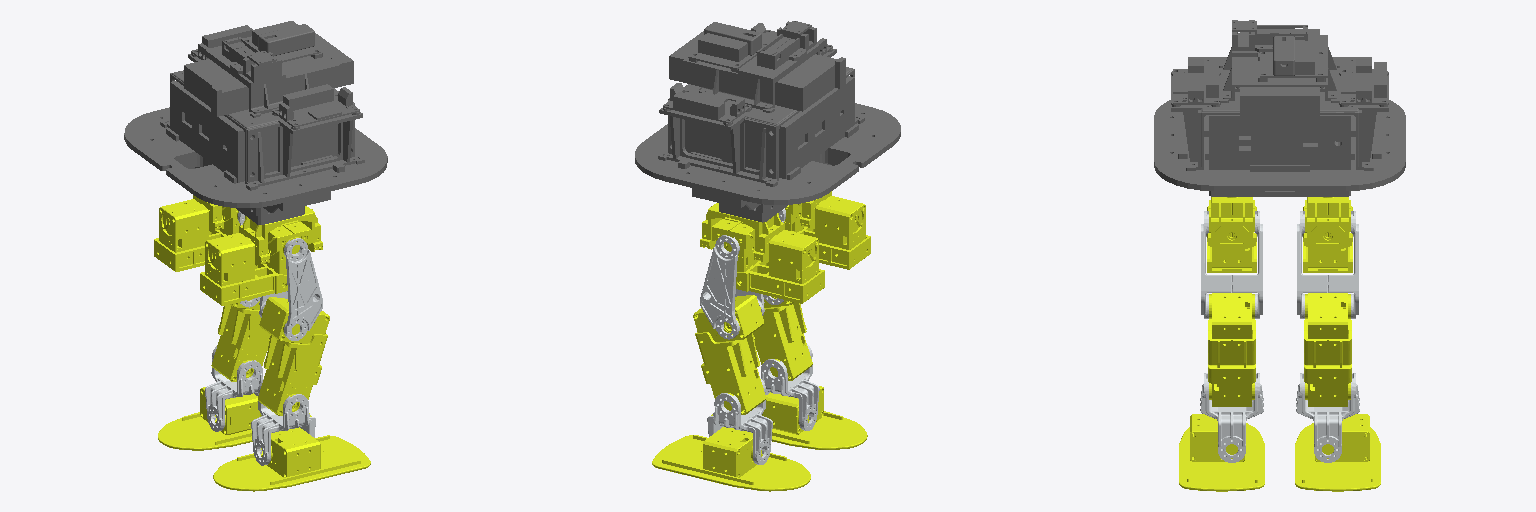
robot.urdf — exhx5_w_b_16:
<?xml version="1.0" encoding="utf-8"?>
<!-- This URDF was automatically created by SolidWorks to URDF Exporter! Originally created by [author] ([email redacted]) 
     Commit Version: 1.5.1-0-g916b5db  Build Version: 1.5.7152.31018
     For more information, please see http://wiki.ros.org/sw_urdf_exporter -->
<robot
  name="exhx5_w_b_16">
  <link
    name="body_link">
    <inertial>
      <origin
        xyz="0.00043545 0.00025536 0.10071"
        rpy="0 0 0" />
      <mass
        value="1.8238" />
      <inertia
        ixx="0.0025905"
        ixy="-5.6852E-06"
        ixz="-1.3106E-05"
        iyy="0.0024595"
        iyz="-1.261E-06"
        izz="0.0046407" />
    </inertial>
    <visual>
      <origin
        xyz="0 0 0"
        rpy="0 0 0" />
      <geometry>
        <mesh
          filename="../meshes/body_link.STL" />
      </geometry>
      <material
        name="">
        <color
          rgba="0.49804 0.49804 0.49804 1" />
      </material>
    </visual>
    <collision>
      <origin
        xyz="0 0 0"
        rpy="0 0 0" />
      <geometry>
        <mesh
          filename="../meshes/body_link.STL" />
      </geometry>
    </collision>
  </link>

  <link
    name="imu_link">
    <inertial>
      <origin
        xyz="-0.008387 1.336E-17 -0.0069463"
        rpy="0 0 0" />
      <mass
        value="0.0062931" />
      <inertia
        ixx="3.2242E-07"
        ixy="3.3527E-22"
        ixz="-6.9193E-08"
        iyy="9.2229E-07"
        iyz="-8.0392E-22"
        izz="1.1018E-06" />
    </inertial>
    <visual>
      <origin
        xyz="0 0 0"
        rpy="0 0 0" />
      <geometry>
        <mesh
          filename="../meshes/imu_link.STL" />
      </geometry>
      <material
        name="">
        <color
          rgba="0.79216 0.81961 0.93333 1" />
      </material>
    </visual>
    <collision>
      <origin
        xyz="0 0 0"
        rpy="0 0 0" />
      <geometry>
        <mesh
          filename="../meshes/imu_link.STL" />
      </geometry>
    </collision>
  </link>
  <joint
    name="imu"
    type="fixed">
    <origin
      xyz="0 0 0.0492"
      rpy="0 0 0" />
    <parent
      link="body_link" />
    <child
      link="imu_link" />
    <axis
      xyz="0 0 0" />
    <limit
      lower="-3.14"
      upper="3.14"
      effort="4"
      velocity="4" />
  </joint>
  <link
    name="l_hip_g_link">
    <inertial>
      <origin
        xyz="-0.0043797 -8.6604E-08 0.011813"
        rpy="0 0 0" />
      <mass
        value="0.061008" />
      <inertia
        ixx="1.167E-05"
        ixy="7.1767E-11"
        ixz="9.1442E-09"
        iyy="2.2342E-05"
        iyz="2.5177E-11"
        izz="2.4892E-05" />
    </inertial>
    <visual>
      <origin
        xyz="0 0 0"
        rpy="0 0 0" />
      <geometry>
        <mesh
          filename="../meshes/l_hip_g_link.STL" />
      </geometry>
      <material
        name="">
        <color
          rgba="0.9451 1 0.18431 1" />
      </material>
    </visual>
    <collision>
      <origin
        xyz="0 0 0"
        rpy="0 0 0" />
      <geometry>
        <mesh
          filename="../meshes/l_hip_g_link.STL" />
      </geometry>
    </collision>
  </link>
  <joint
    name="l_hip_g"
    type="fixed">
    <origin
      xyz="0 0.04 0"
      rpy="0 0 0" />
    <parent
      link="body_link" />
    <child
      link="l_hip_g_link" />
    <axis
      xyz="0 0 0" />
  </joint>
  <link
    name="l_hip_roll_link">
    <inertial>
      <origin
        xyz="0.013831 0.00033457 0.025453"
        rpy="0 0 0" />
      <mass
        value="0.2969" />
      <inertia
        ixx="7.8136E-05"
        ixy="7.265E-07"
        ixz="-6.9809E-08"
        iyy="9.2183E-05"
        iyz="-5.6881E-11"
        izz="7.1034E-05" />
    </inertial>
    <visual>
      <origin
        xyz="0 0 0"
        rpy="0 0 0" />
      <geometry>
        <mesh
          filename="../meshes/l_hip_roll_link.STL" />
      </geometry>
      <material
        name="">
        <color
          rgba="0.9451 1 0.18431 1" />
      </material>
    </visual>
    <collision>
      <origin
        xyz="0 0 0"
        rpy="0 0 0" />
      <geometry>
        <mesh
          filename="../meshes/l_hip_roll_link.STL" />
      </geometry>
    </collision>
  </link>
  <joint
    name="l_hip_roll"
    type="revolute">
    <origin
      xyz="0 0 0"
      rpy="3.1416 1.5708 0" />
    <parent
      link="l_hip_g_link" />
    <child
      link="l_hip_roll_link" />
    <axis
      xyz="0 0 1" />
    <limit
      lower="-3.14"
      upper="3.14"
      effort="4"
      velocity="4" />
  </joint>
  <link
    name="l_hip_pitch_link">
    <inertial>
      <origin
        xyz="0.041225 -0.007321 -5.0713E-08"
        rpy="0 0 0" />
      <mass
        value="0.051592" />
      <inertia
        ixx="2.7959E-05"
        ixy="2.0752E-06"
        ixz="-8.0934E-11"
        iyy="4.8156E-05"
        iyz="3.6317E-11"
        izz="2.9604E-05" />
    </inertial>
    <visual>
      <origin
        xyz="0 0 0"
        rpy="0 0 0" />
      <geometry>
        <mesh
          filename="../meshes/l_hip_pitch_link.STL" />
      </geometry>
      <material
        name="">
        <color
          rgba="0.89804 0.91765 0.92941 1" />
      </material>
    </visual>
    <collision>
      <origin
        xyz="0 0 0"
        rpy="0 0 0" />
      <geometry>
        <mesh
          filename="../meshes/l_hip_pitch_link.STL" />
      </geometry>
    </collision>
  </link>
  <joint
    name="l_hip_pitch"
    type="revolute">
    <origin
      xyz="0 0 0"
      rpy="1.5708 0 0" />
    <parent
      link="l_hip_roll_link" />
    <child
      link="l_hip_pitch_link" />
    <axis
      xyz="0 0 1" />
    <limit
      lower="-3.14"
      upper="3.14"
      effort="4"
      velocity="4" />
  </joint>
  <link
    name="l_knee_link">
    <inertial>
      <origin
        xyz="0.033756 -0.0084189 -6.6115E-09"
        rpy="0 0 0" />
      <mass
        value="0.28878" />
      <inertia
        ixx="6.6724E-05"
        ixy="7.5004E-07"
        ixz="-8.4578E-07"
        iyy="6.5699E-05"
        iyz="4.1085E-07"
        izz="7.0381E-05" />
    </inertial>
    <visual>
      <origin
        xyz="0 0 0"
        rpy="0 0 0" />
      <geometry>
        <mesh
          filename="../meshes/l_knee_link.STL" />
      </geometry>
      <material
        name="">
        <color
          rgba="0.9451 1 0.18431 1" />
      </material>
    </visual>
    <collision>
      <origin
        xyz="0 0 0"
        rpy="0 0 0" />
      <geometry>
        <mesh
          filename="../meshes/l_knee_link.STL" />
      </geometry>
    </collision>
  </link>
  <joint
    name="l_knee"
    type="revolute">
    <origin
      xyz="0.075954 0 0"
      rpy="0 0 0" />
    <parent
      link="l_hip_pitch_link" />
    <child
      link="l_knee_link" />
    <axis
      xyz="0 0 1" />
    <limit
      lower="-3.14"
      upper="3.14"
      effort="4"
      velocity="4" />
  </joint>
  <link
    name="l_ank_pitch_link">
    <inertial>
      <origin
        xyz="0.022786 -7.3909E-09 -7.1981E-06"
        rpy="0 0 0" />
      <mass
        value="0.044772" />
      <inertia
        ixx="1.777E-05"
        ixy="8.555E-14"
        ixz="-3.3713E-09"
        iyy="1.7119E-05"
        iyz="1.7593E-11"
        izz="1.8661E-05" />
    </inertial>
    <visual>
      <origin
        xyz="0 0 0"
        rpy="0 0 0" />
      <geometry>
        <mesh
          filename="../meshes/l_ank_pitch_link.STL" />
      </geometry>
      <material
        name="">
        <color
          rgba="0.89804 0.91765 0.92941 1" />
      </material>
    </visual>
    <collision>
      <origin
        xyz="0 0 0"
        rpy="0 0 0" />
      <geometry>
        <mesh
          filename="../meshes/l_ank_pitch_link.STL" />
      </geometry>
    </collision>
  </link>
  <joint
    name="l_ank_pitch"
    type="revolute">
    <origin
      xyz="0.074602 0 0"
      rpy="3.1416 0 0" />
    <parent
      link="l_knee_link" />
    <child
      link="l_ank_pitch_link" />
    <axis
      xyz="0 0 1" />
    <limit
      lower="-3.14"
      upper="3.14"
      effort="4"
      velocity="4" />
  </joint>
  <link
    name="l_ank_roll_link">
    <inertial>
      <origin
        xyz="0.0047069 0.010728 0.0015299"
        rpy="0 0 0" />
      <mass
        value="0.16774" />
      <inertia
        ixx="0.00012039"
        ixy="-3.7428E-09"
        ixz="4.4069E-08"
        iyy="8.7735E-05"
        iyz="7.0469E-07"
        izz="4.7866E-05" />
    </inertial>
    <visual>
      <origin
        xyz="0 0 0"
        rpy="0 0 0" />
      <geometry>
        <mesh
          filename="../meshes/l_ank_roll_link.STL" />
      </geometry>
      <material
        name="">
        <color
          rgba="0.9451 1 0.18431 1" />
      </material>
    </visual>
    <collision>
      <origin
        xyz="0 0 0"
        rpy="0 0 0" />
      <geometry>
        <mesh
          filename="../meshes/l_ank_roll_link.STL" />
      </geometry>
    </collision>
  </link>
  <joint
    name="l_ank_roll"
    type="revolute">
    <origin
      xyz="0.0465 0 0"
      rpy="-1.5708 0 0" />
    <parent
      link="l_ank_pitch_link" />
    <child
      link="l_ank_roll_link" />
    <axis
      xyz="0 0 1" />
    <limit
      lower="-3.14"
      upper="3.14"
      effort="4"
      velocity="4" />
  </joint>
  <link
    name="r_hip_g_link">
    <inertial>
      <origin
        xyz="-0.0043797 -8.6604E-08 0.011813"
        rpy="0 0 0" />
      <mass
        value="0.061008" />
      <inertia
        ixx="1.167E-05"
        ixy="7.1767E-11"
        ixz="9.1442E-09"
        iyy="2.2342E-05"
        iyz="2.5177E-11"
        izz="2.4892E-05" />
    </inertial>
    <visual>
      <origin
        xyz="0 0 0"
        rpy="0 0 0" />
      <geometry>
        <mesh
          filename="../meshes/r_hip_g_link.STL" />
      </geometry>
      <material
        name="">
        <color
          rgba="0.9451 1 0.18431 1" />
      </material>
    </visual>
    <collision>
      <origin
        xyz="0 0 0"
        rpy="0 0 0" />
      <geometry>
        <mesh
          filename="../meshes/r_hip_g_link.STL" />
      </geometry>
    </collision>
  </link>
  <joint
    name="r_hip_g"
    type="fixed">
    <origin
      xyz="0 -.04 0"
      rpy="0 0 0" />
    <parent
      link="body_link" />
    <child
      link="r_hip_g_link" />
    <axis
      xyz="0 0 0" />
  </joint>
  <link
    name="r_hip_roll_link">
    <inertial>
      <origin
        xyz="0.013831 0.00033457 0.025453"
        rpy="0 0 0" />
      <mass
        value="0.2969" />
      <inertia
        ixx="7.8136E-05"
        ixy="7.265E-07"
        ixz="-6.9809E-08"
        iyy="9.2183E-05"
        iyz="-5.6881E-11"
        izz="7.1034E-05" />
    </inertial>
    <visual>
      <origin
        xyz="0 0 0"
        rpy="0 0 0" />
      <geometry>
        <mesh
          filename="../meshes/r_hip_roll_link.STL" />
      </geometry>
      <material
        name="">
        <color
          rgba="0.9451 1 0.18431 1" />
      </material>
    </visual>
    <collision>
      <origin
        xyz="0 0 0"
        rpy="0 0 0" />
      <geometry>
        <mesh
          filename="../meshes/r_hip_roll_link.STL" />
      </geometry>
    </collision>
  </link>
  <joint
    name="r_hip_roll"
    type="revolute">
    <origin
      xyz="0 0 0"
      rpy="3.1416 1.5708 0" />
    <parent
      link="r_hip_g_link" />
    <child
      link="r_hip_roll_link" />
    <axis
      xyz="0 0 1" />
    <limit
      lower="-3.14"
      upper="3.14"
      effort="4"
      velocity="4" />
  </joint>
  <link
    name="r_hip_pitch_link">
    <inertial>
      <origin
        xyz="0.041225 0.007321 5.0713E-08"
        rpy="0 0 0" />
      <mass
        value="0.051592" />
      <inertia
        ixx="2.7959E-05"
        ixy="-2.0752E-06"
        ixz="8.0934E-11"
        iyy="4.8156E-05"
        iyz="3.6317E-11"
        izz="2.9604E-05" />
    </inertial>
    <visual>
      <origin
        xyz="0 0 0"
        rpy="0 0 0" />
      <geometry>
        <mesh
          filename="../meshes/r_hip_pitch_link.STL" />
      </geometry>
      <material
        name="">
        <color
          rgba="0.89804 0.91765 0.92941 1" />
      </material>
    </visual>
    <collision>
      <origin
        xyz="0 0 0"
        rpy="0 0 0" />
      <geometry>
        <mesh
          filename="../meshes/r_hip_pitch_link.STL" />
      </geometry>
    </collision>
  </link>
  <joint
    name="r_hip_pitch"
    type="revolute">
    <origin
      xyz="0 0 0"
      rpy="-1.5708 0 0" />
    <parent
      link="r_hip_roll_link" />
    <child
      link="r_hip_pitch_link" />
    <axis
      xyz="0 0 1" />
    <limit
      lower="-3.14"
      upper="3.14"
      effort="4"
      velocity="4" />
  </joint>
  <link
    name="r_knee_link">
    <inertial>
      <origin
        xyz="0.033757 0.0084176 6.6115E-09"
        rpy="0 0 0" />
      <mass
        value="0.28878" />
      <inertia
        ixx="6.6724E-05"
        ixy="-7.5008E-07"
        ixz="8.458E-07"
        iyy="6.5699E-05"
        iyz="4.1081E-07"
        izz="7.0381E-05" />
    </inertial>
    <visual>
      <origin
        xyz="0 0 0"
        rpy="0 0 0" />
      <geometry>
        <mesh
          filename="../meshes/r_knee_link.STL" />
      </geometry>
      <material
        name="">
        <color
          rgba="0.9451 1 0.18431 1" />
      </material>
    </visual>
    <collision>
      <origin
        xyz="0 0 0"
        rpy="0 0 0" />
      <geometry>
        <mesh
          filename="../meshes/r_knee_link.STL" />
      </geometry>
    </collision>
  </link>
  <joint
    name="r_knee"
    type="revolute">
    <origin
      xyz="0.075954 0 0"
      rpy="0 0 0" />
    <parent
      link="r_hip_pitch_link" />
    <child
      link="r_knee_link" />
    <axis
      xyz="0 0 1" />
    <limit
      lower="-3.14"
      upper="3.14"
      effort="4"
      velocity="4" />
  </joint>
  <link
    name="r_ank_pitch_link">
    <inertial>
      <origin
        xyz="0.025786 -7.3887E-09 -7.1981E-06"
        rpy="0 0 0" />
      <mass
        value="0.044772" />
      <inertia
        ixx="1.777E-05"
        ixy="8.5434E-14"
        ixz="-3.3713E-09"
        iyy="1.7119E-05"
        iyz="1.7592E-11"
        izz="1.8661E-05" />
    </inertial>
    <visual>
      <origin
        xyz="0 0 0"
        rpy="0 0 0" />
      <geometry>
        <mesh
          filename="../meshes/r_ank_pitch_link.STL" />
      </geometry>
      <material
        name="">
        <color
          rgba="0.89804 0.91765 0.92941 1" />
      </material>
    </visual>
    <collision>
      <origin
        xyz="0 0 0"
        rpy="0 0 0" />
      <geometry>
        <mesh
          filename="../meshes/r_ank_pitch_link.STL" />
      </geometry>
    </collision>
  </link>
  <joint
    name="r_ank_pitch"
    type="revolute">
    <origin
      xyz="0.071602 0 0"
      rpy="3.1416 0 0" />
    <parent
      link="r_knee_link" />
    <child
      link="r_ank_pitch_link" />
    <axis
      xyz="0 0 1" />
    <limit
      lower="-3.14"
      upper="3.14"
      effort="4"
      velocity="4" />
  </joint>
  <link
    name="r_ank_roll_link">
    <inertial>
      <origin
        xyz="0.0077069 -0.010728 0.0015299"
        rpy="0 0 0" />
      <mass
        value="0.16774" />
      <inertia
        ixx="0.00012039"
        ixy="3.743E-09"
        ixz="4.407E-08"
        iyy="8.7735E-05"
        iyz="-7.0467E-07"
        izz="4.7866E-05" />
    </inertial>
    <visual>
      <origin
        xyz="0 0 0"
        rpy="0 0 0" />
      <geometry>
        <mesh
          filename="../meshes/r_ank_roll_link.STL" />
      </geometry>
      <material
        name="">
        <color
          rgba="0.9451 1 0.18431 1" />
      </material>
    </visual>
    <collision>
      <origin
        xyz="0 0 0"
        rpy="0 0 0" />
      <geometry>
        <mesh
          filename="../meshes/r_ank_roll_link.STL" />
      </geometry>
    </collision>
  </link>
  <joint
    name="r_ank_roll"
    type="revolute">
    <origin
      xyz="0.0465 0 0"
      rpy="1.5708 0 0" />
    <parent
      link="r_ank_pitch_link" />
    <child
      link="r_ank_roll_link" />
    <axis
      xyz="0 0 1" />
    <limit
      lower="-3.14"
      upper="3.14"
      effort="4"
      velocity="4" />
  </joint>
  <transmission name="r_hip_roll_tran">
    <type>transmission_interface/SimpleTransmission</type>
    <joint name="r_hip_roll">
      <hardwareInterface>hardware_interface/EffortJointInterface</hardwareInterface>
    </joint>
    <actuator name="r_hip_roll_motor">
      <hardwareInterface>hardware_interface/EffortJointInterface</hardwareInterface>
      <mechanicalReduction>1</mechanicalReduction>
    </actuator>
  </transmission>
  <transmission name="r_hip_pitch_tran">
    <type>transmission_interface/SimpleTransmission</type>
    <joint name="r_hip_pitch">
      <hardwareInterface>hardware_interface/EffortJointInterface</hardwareInterface>
    </joint>
    <actuator name="r_hip_pitch_motor">
      <hardwareInterface>hardware_interface/EffortJointInterface</hardwareInterface>
      <mechanicalReduction>1</mechanicalReduction>
    </actuator>
  </transmission>
  <transmission name="r_knee_tran">
    <type>transmission_interface/SimpleTransmission</type>
    <joint name="r_knee">
      <hardwareInterface>hardware_interface/EffortJointInterface</hardwareInterface>
    </joint>
    <actuator name="r_knee_motor">
      <hardwareInterface>hardware_interface/EffortJointInterface</hardwareInterface>
      <mechanicalReduction>1</mechanicalReduction>
    </actuator>
  </transmission>
  <transmission name="r_ank_pitch_tran">
    <type>transmission_interface/SimpleTransmission</type>
    <joint name="r_ank_pitch">
      <hardwareInterface>hardware_interface/EffortJointInterface</hardwareInterface>
    </joint>
    <actuator name="r_ank_pitch_motor">
      <hardwareInterface>hardware_interface/EffortJointInterface</hardwareInterface>
      <mechanicalReduction>1</mechanicalReduction>
    </actuator>
  </transmission>
  <transmission name="r_ank_roll_tran">
    <type>transmission_interface/SimpleTransmission</type>
    <joint name="r_ank_roll">
      <hardwareInterface>hardware_interface/EffortJointInterface</hardwareInterface>
    </joint>
    <actuator name="r_ank_roll_motor">
      <hardwareInterface>hardware_interface/EffortJointInterface</hardwareInterface>
      <mechanicalReduction>1</mechanicalReduction>
    </actuator>
  </transmission>
  <transmission name="l_hip_roll_tran">
    <type>transmission_interface/SimpleTransmission</type>
    <joint name="l_hip_roll">
      <hardwareInterface>hardware_interface/EffortJointInterface</hardwareInterface>
    </joint>
    <actuator name="l_hip_roll_motor">
      <hardwareInterface>hardware_interface/EffortJointInterface</hardwareInterface>
      <mechanicalReduction>1</mechanicalReduction>
    </actuator>
  </transmission>
  <transmission name="l_hip_pitch_tran">
    <type>transmission_interface/SimpleTransmission</type>
    <joint name="l_hip_pitch">
      <hardwareInterface>hardware_interface/EffortJointInterface</hardwareInterface>
    </joint>
    <actuator name="l_hip_pitch_motor">
      <hardwareInterface>hardware_interface/EffortJointInterface</hardwareInterface>
      <mechanicalReduction>1</mechanicalReduction>
    </actuator>
  </transmission>
  <transmission name="l_knee_tran">
    <type>transmission_interface/SimpleTransmission</type>
    <joint name="l_knee">
      <hardwareInterface>hardware_interface/EffortJointInterface</hardwareInterface>
    </joint>
    <actuator name="l_knee_motor">
      <hardwareInterface>hardware_interface/EffortJointInterface</hardwareInterface>
      <mechanicalReduction>1</mechanicalReduction>
    </actuator>
  </transmission>
  <transmission name="l_ank_pitch_tran">
    <type>transmission_interface/SimpleTransmission</type>
    <joint name="l_ank_pitch">
      <hardwareInterface>hardware_interface/EffortJointInterface</hardwareInterface>
    </joint>
    <actuator name="l_ank_pitch_motor">
      <hardwareInterface>hardware_interface/EffortJointInterface</hardwareInterface>
      <mechanicalReduction>1</mechanicalReduction>
    </actuator>
  </transmission>
  <transmission name="l_ank_roll_tran">
    <type>transmission_interface/SimpleTransmission</type>
    <joint name="l_ank_roll">
      <hardwareInterface>hardware_interface/EffortJointInterface</hardwareInterface>
    </joint>
    <actuator name="l_ank_roll_motor">
      <hardwareInterface>hardware_interface/EffortJointInterface</hardwareInterface>
      <mechanicalReduction>1</mechanicalReduction>
    </actuator>
  </transmission>
</robot>

--- Render facts (derived) ---
3 views of the same robot in one strip: view 1: azimuth 30°, elevation 25°; view 2: azimuth 150°, elevation 25°; view 3: azimuth 270°, elevation 25° (orthographic).
Model exhx5_w_b_16 with 14 links and 13 joints (10 revolute, 3 fixed), rooted at body_link, posed all joints at 0.
Links seen in each view (by area): view 1: body_link, r_ank_roll_link, r_hip_roll_link, r_knee_link, l_hip_roll_link, l_ank_roll_link, l_knee_link, r_hip_pitch_link, r_ank_pitch_link, l_ank_pitch_link, r_hip_g_link; view 2: body_link, l_ank_roll_link, l_hip_roll_link, l_knee_link, r_hip_roll_link, r_ank_roll_link, r_knee_link, l_hip_pitch_link, l_ank_pitch_link, r_ank_pitch_link, l_hip_g_link; view 3: body_link, l_knee_link, r_knee_link, l_ank_roll_link, r_ank_roll_link, l_hip_g_link, r_hip_g_link, l_ank_pitch_link, r_ank_pitch_link, l_hip_pitch_link, r_hip_pitch_link, l_hip_roll_link (+1 smaller).
Link boxes in pixels (box(x1,y1,x2,y2)): body_link: box(124, 21, 387, 224); r_ank_roll_link: box(213, 427, 370, 491); r_hip_roll_link: box(200, 220, 311, 305); r_knee_link: box(258, 297, 329, 415); l_hip_roll_link: box(154, 199, 239, 271); l_ank_roll_link: box(158, 387, 311, 450); l_knee_link: box(211, 299, 270, 381); r_hip_pitch_link: box(259, 238, 322, 340); r_ank_pitch_link: box(251, 379, 315, 465); l_ank_pitch_link: box(205, 346, 262, 431); r_hip_g_link: box(239, 206, 322, 265); body_link: box(635, 21, 900, 222); l_ank_roll_link: box(652, 427, 810, 491); l_hip_roll_link: box(712, 217, 824, 303); l_knee_link: box(693, 295, 765, 414); r_hip_roll_link: box(784, 196, 870, 269); r_ank_roll_link: box(711, 386, 867, 449); r_knee_link: box(753, 297, 812, 380); l_hip_pitch_link: box(700, 235, 764, 339); l_ank_pitch_link: box(707, 378, 772, 464); r_ank_pitch_link: box(761, 344, 819, 430); l_hip_g_link: box(700, 203, 784, 262); body_link: box(1154, 20, 1405, 196); l_knee_link: box(1304, 293, 1351, 406); r_knee_link: box(1208, 293, 1255, 406); l_ank_roll_link: box(1295, 414, 1380, 491); r_ank_roll_link: box(1179, 414, 1264, 491); l_hip_g_link: box(1303, 197, 1352, 247); r_hip_g_link: box(1207, 197, 1256, 247); l_ank_pitch_link: box(1296, 373, 1359, 462); r_ank_pitch_link: box(1200, 373, 1263, 462); l_hip_pitch_link: box(1297, 211, 1358, 318); r_hip_pitch_link: box(1201, 211, 1262, 318); l_hip_roll_link: box(1303, 200, 1352, 272).
Bounding box of the posed robot: 0.185 × 0.21 × 0.3893 m (x, y, z).
Meshes: 14 distinct files referenced, 14 mesh visuals loaded (14 binary STL).